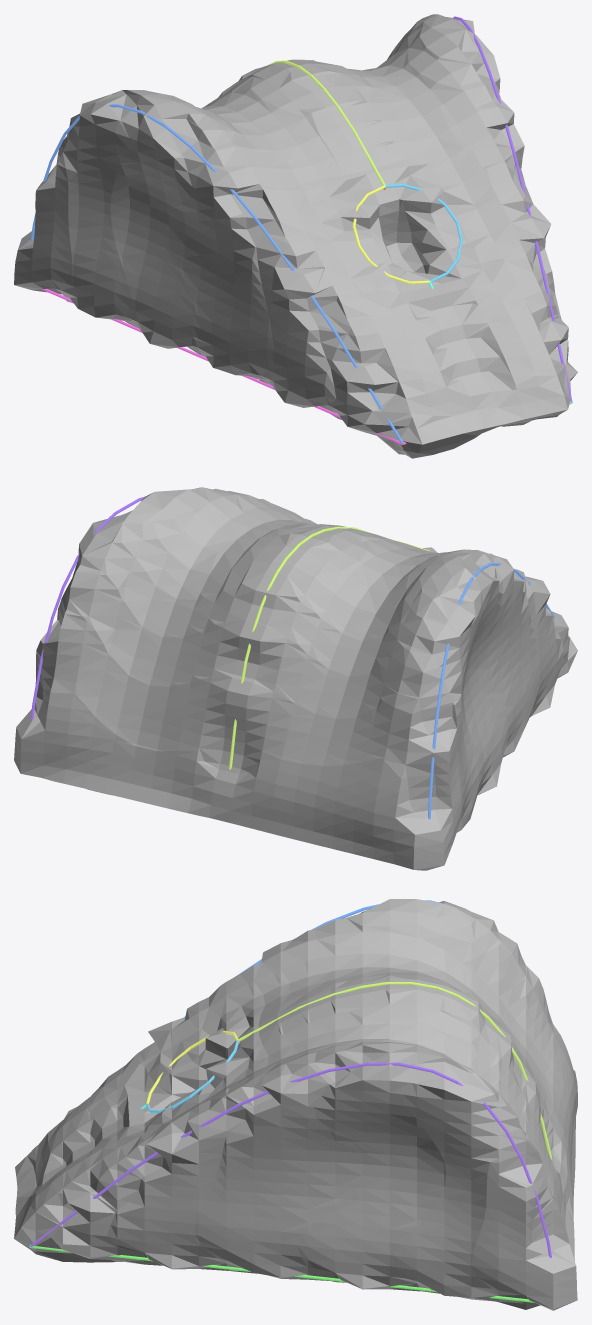
The model's file is onshape_simple_mouse.gltf.
3 views of the same model, one above another, from view 1: azimuth 30°, elevation 25°; view 2: azimuth 150°, elevation 25°; view 3: azimuth 270°, elevation 25° (orthographic).
Size of the model in its own units: 0.675 by 0.3855 by 0.7557.
